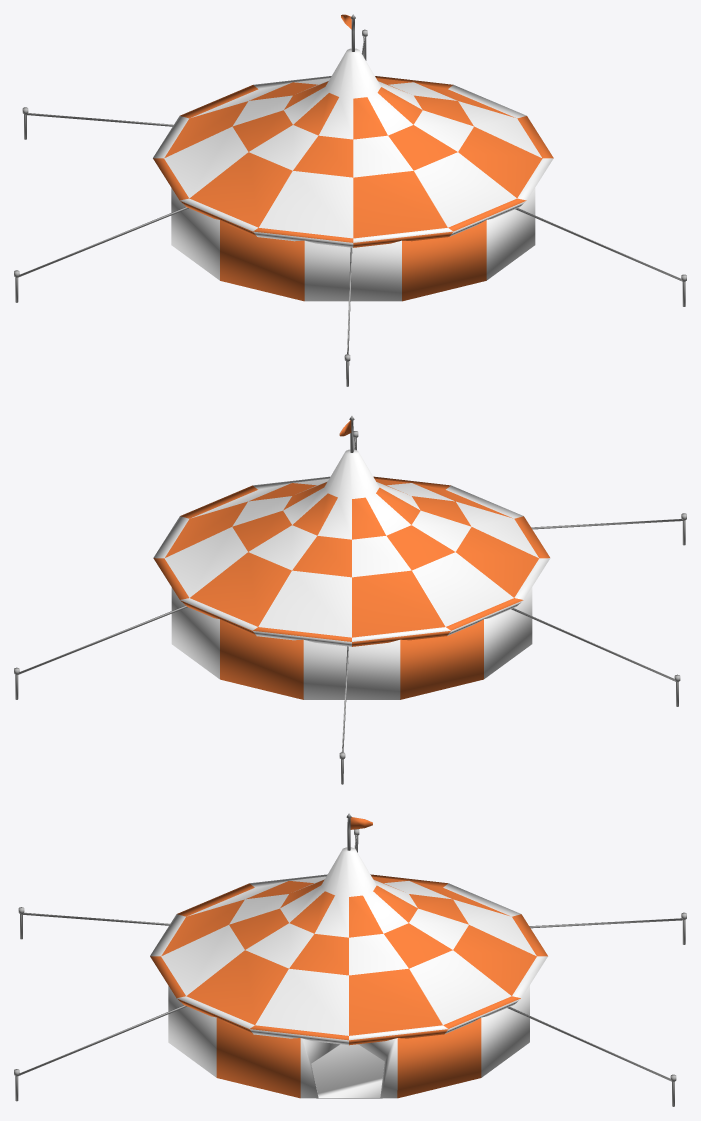
File: Tent4.fbx
3 renders of one model, top to bottom at view 1: azimuth 30°, elevation 25°; view 2: azimuth 150°, elevation 25°; view 3: azimuth 270°, elevation 25°, orthographic.
Parts seen in each view (by area): view 1: Cylinder.001; view 2: Cylinder.001; view 3: Cylinder.001.
Boxes of the visible parts, left/top/right/bottom form: Cylinder.001: left=14, top=14, right=686, bottom=386; Cylinder.001: left=14, top=416, right=686, bottom=784; Cylinder.001: left=14, top=813, right=686, bottom=1106.
Size of the model in its own units: 765 by 300 by 876.
